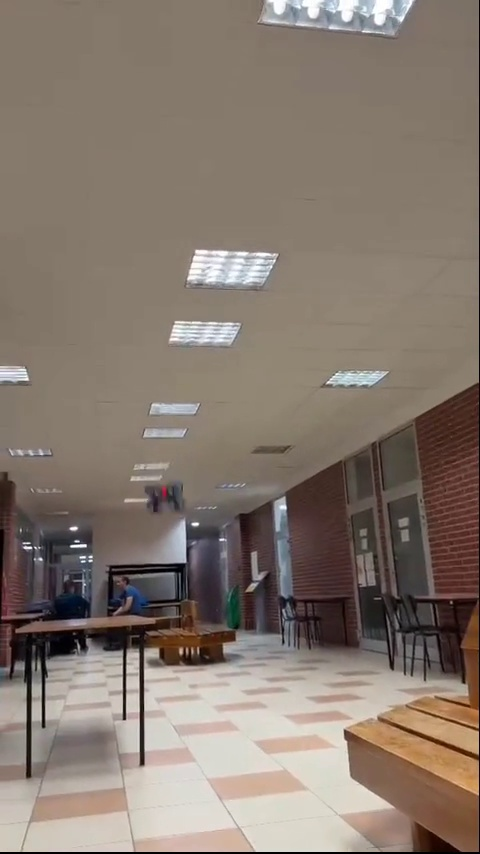drone: (142, 484, 189, 512)
no vest: (51, 577, 91, 618), (114, 575, 141, 615)
